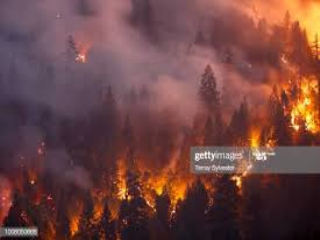fire: (49, 147, 189, 232), (266, 71, 319, 133), (68, 38, 89, 66)
smoke: (107, 39, 229, 121), (25, 131, 95, 193)
